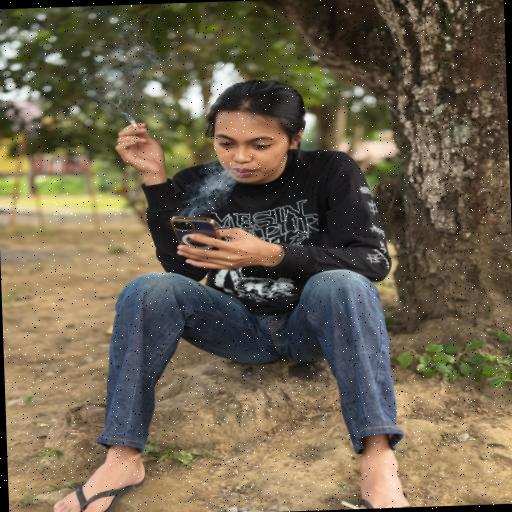asap rokok: (194, 136, 264, 234)
pegang rokok: (100, 96, 179, 173)
